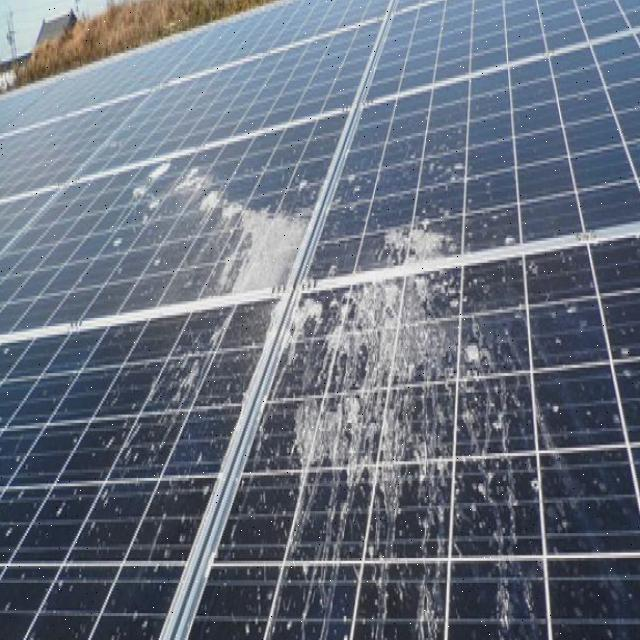Surface Contaminant: (0, 129, 327, 640), (203, 218, 588, 640)
